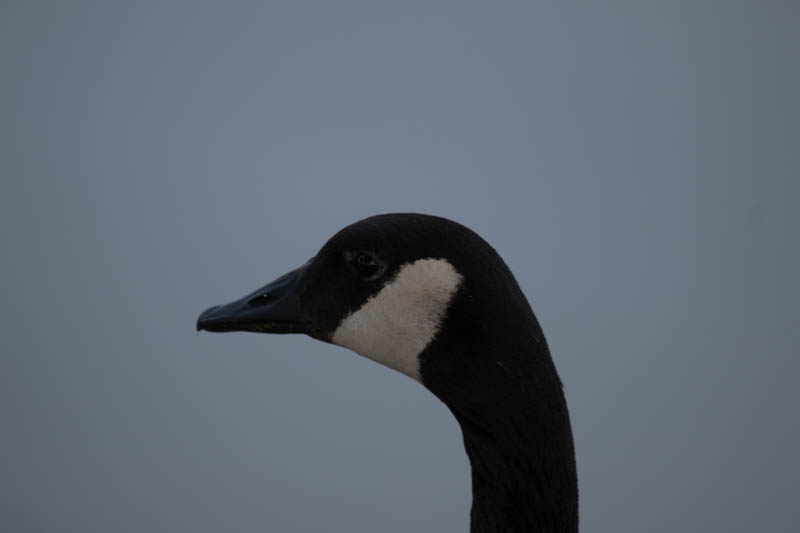goose-head: (196, 212, 562, 388)
